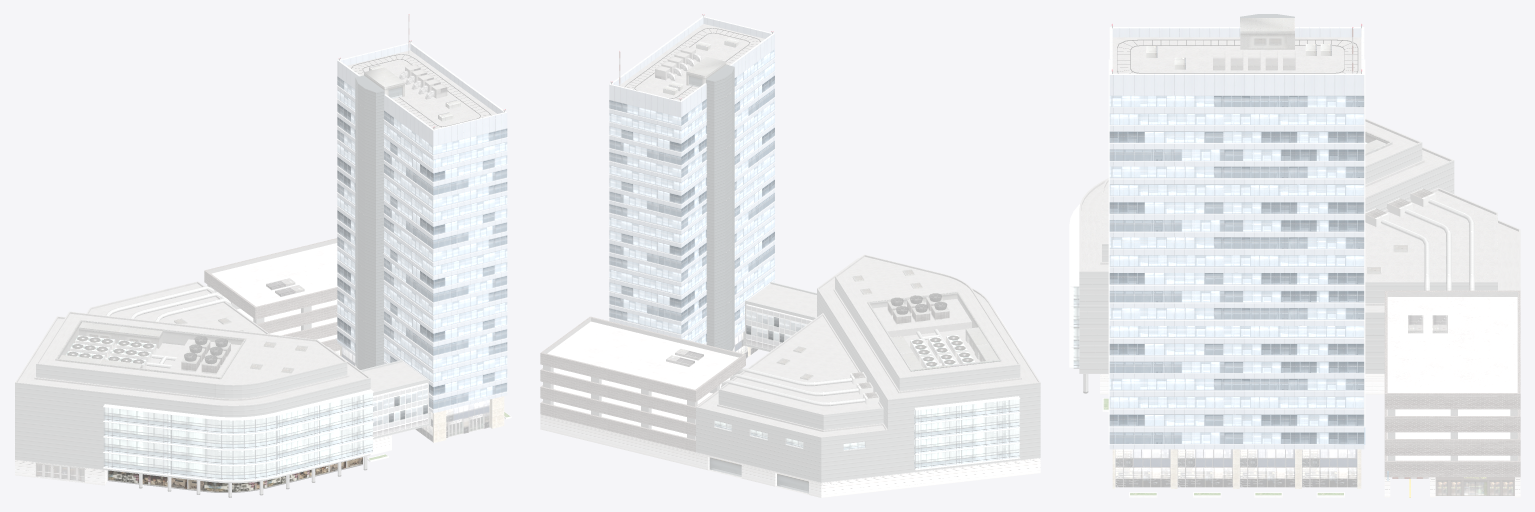
Rendered from 45building.fbx.
3 views of the same model, side by side, from view 1: azimuth 30°, elevation 25°; view 2: azimuth 150°, elevation 25°; view 3: azimuth 270°, elevation 25° (orthographic). The views are drawn at different scales.
Visible parts, largest first — view 1: 45building; view 2: 45building; view 3: 45building.
Part boxes in pixels (x1,y1,x2,y2): 45building: (14,14,511,497); 45building: (540,14,1040,497); 45building: (1069,14,1520,497).
Bounding box in the file's own units: 9421 × 7163 × 6380.
